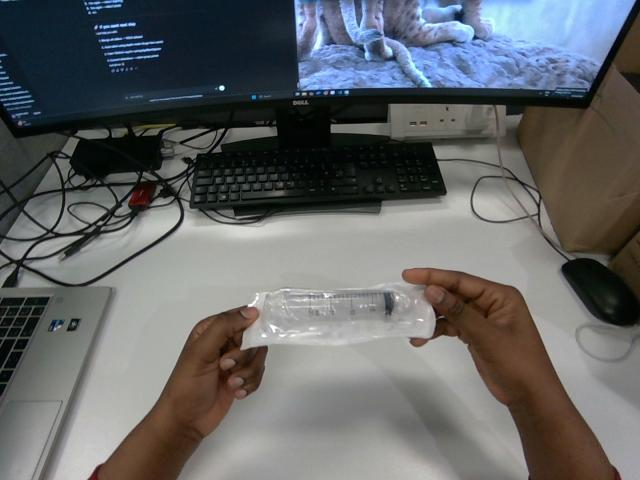syringe: (242, 283, 435, 348)
